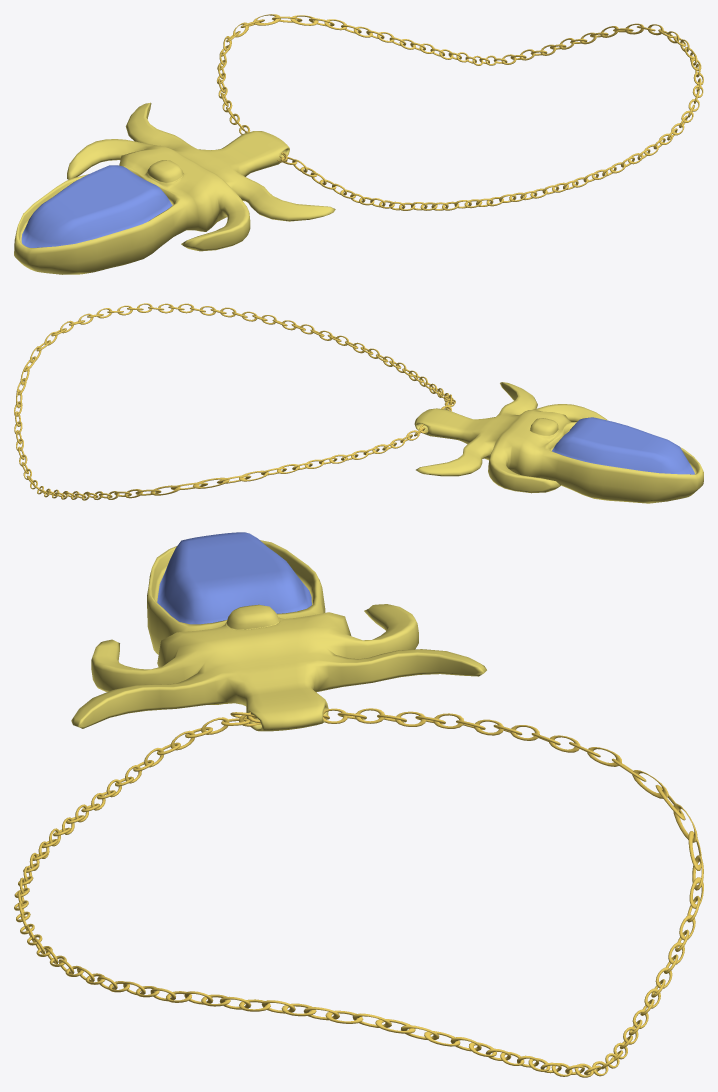
The model's file is Amulet_01.fbx.
3 views of the same model, one above another, from view 1: azimuth 30°, elevation 25°; view 2: azimuth 150°, elevation 25°; view 3: azimuth 270°, elevation 25° (orthographic). The views are drawn at different scales.
Visible parts, largest first — view 1: Amulet, Cube.012; view 2: Amulet, Cube.012; view 3: Amulet, Cube.012.
Part boxes in pixels (<box>): Amulet: <box>14,102,335,274</box>; Cube.012: <box>217,14,703,210</box>; Amulet: <box>414,382,703,503</box>; Cube.012: <box>14,303,455,500</box>; Amulet: <box>71,532,486,731</box>; Cube.012: <box>14,708,703,1077</box>.
Size of the model in its own units: 31.35 by 4.3 by 18.48.
